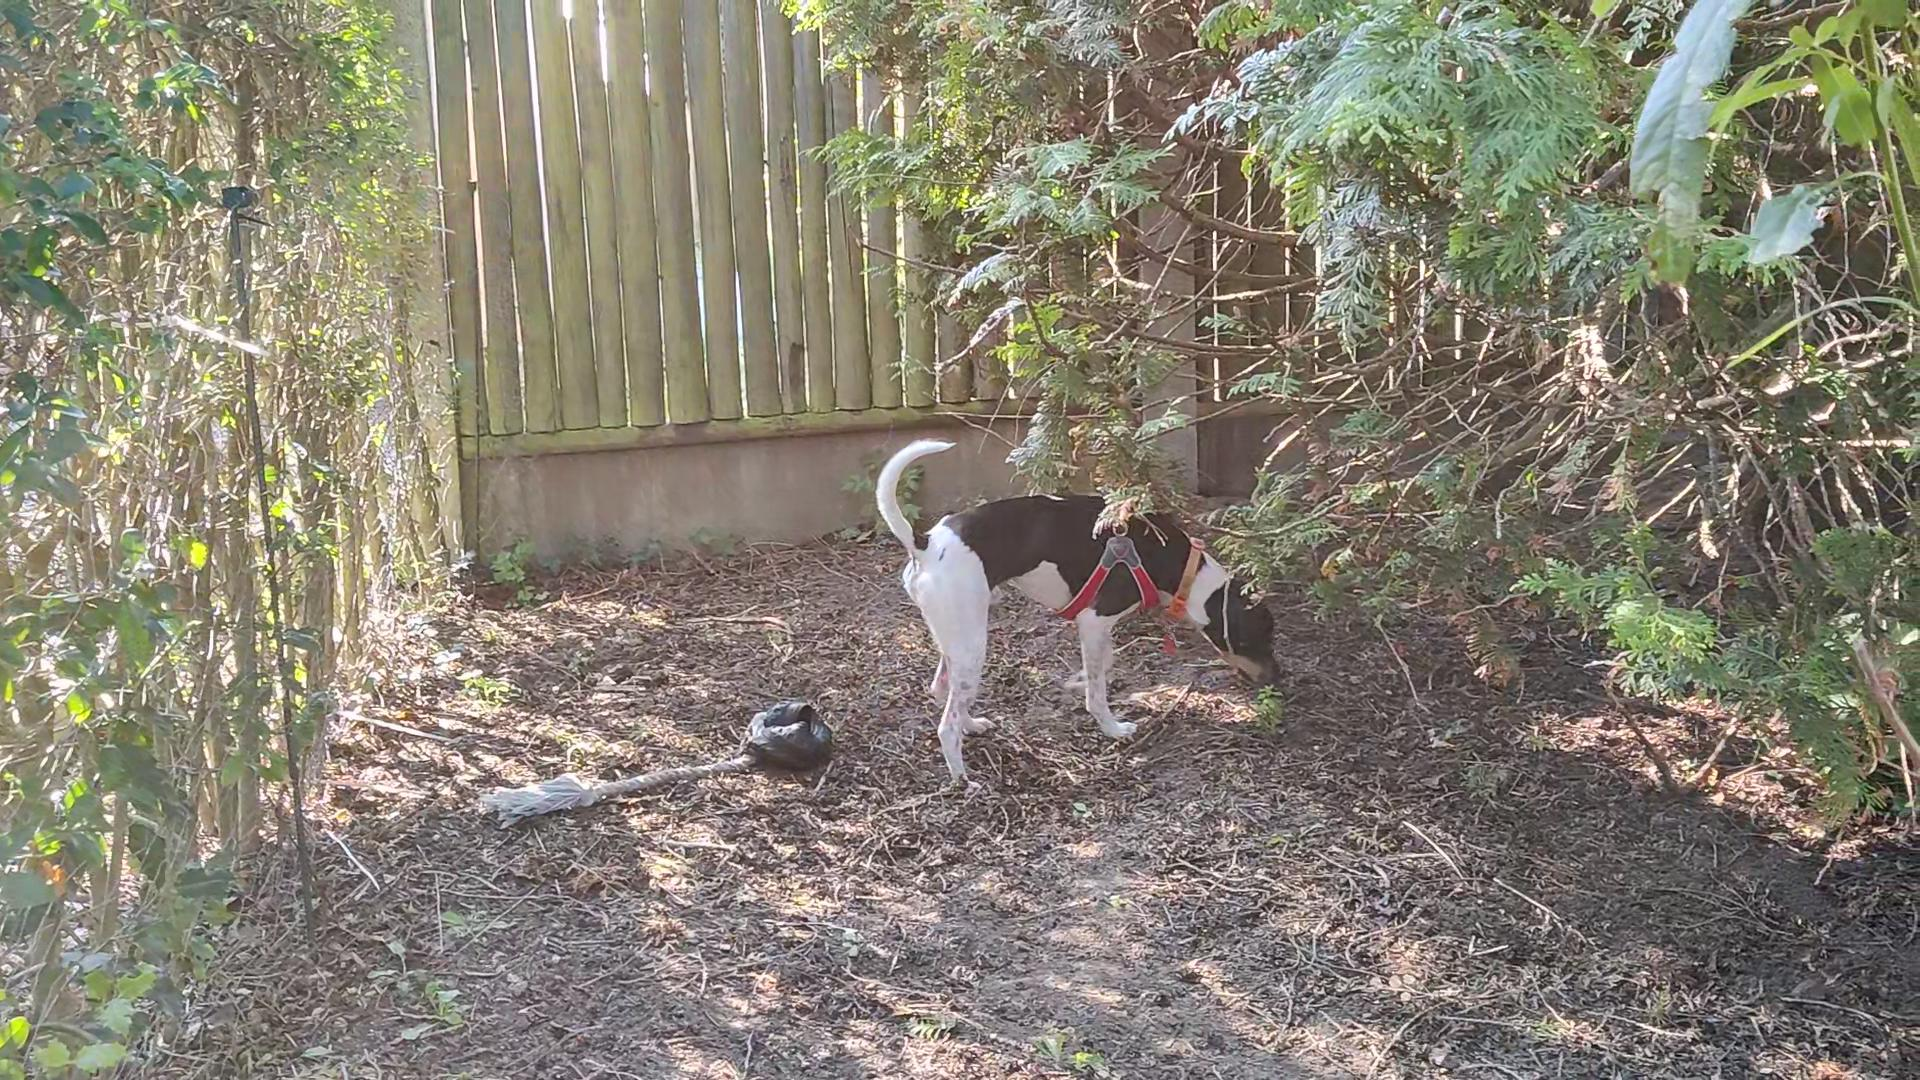Dog: (852, 421, 1298, 806)
